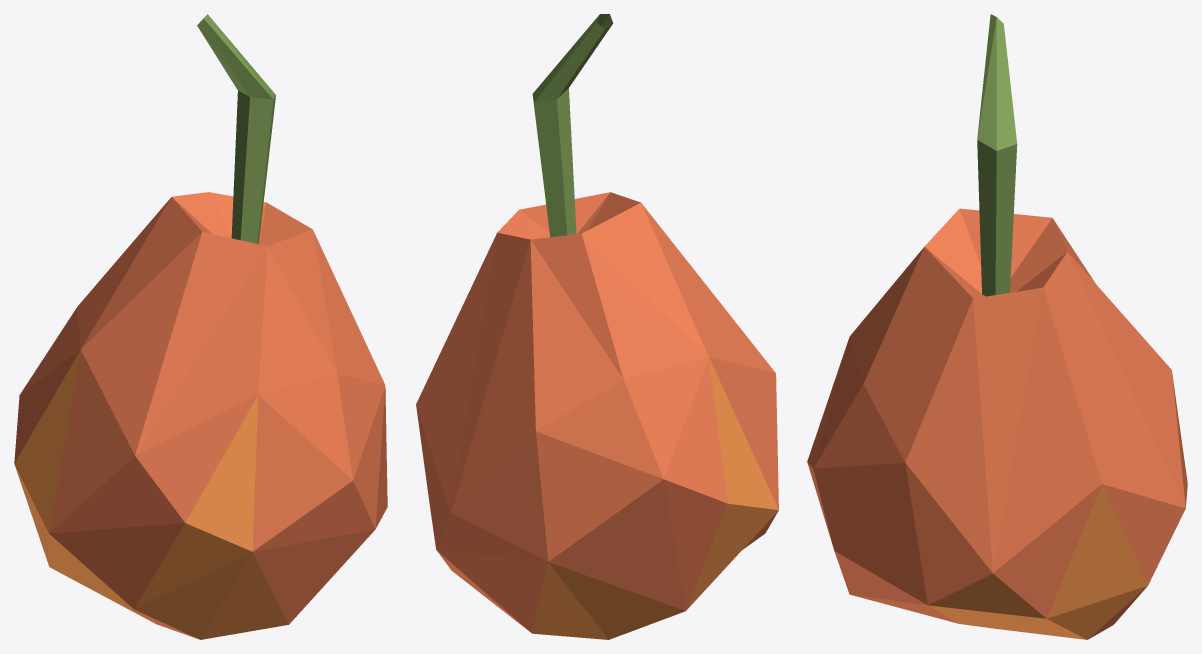
File: Apple_0_6.fbx
3 renders of one model, left to right at view 1: azimuth 30°, elevation 25°; view 2: azimuth 150°, elevation 25°; view 3: azimuth 270°, elevation 25°, orthographic. The views are drawn at different scales.
Visible parts, largest first — view 1: Apple_0_6; view 2: Apple_0_6; view 3: Apple_0_6.
Part boxes in pixels (x1,y1,x2,y2): Apple_0_6: [14, 14, 387, 639]; Apple_0_6: [416, 14, 778, 639]; Apple_0_6: [807, 14, 1187, 639].
Bounding box in the file's own units: 26.83 × 45.9 × 25.67.
